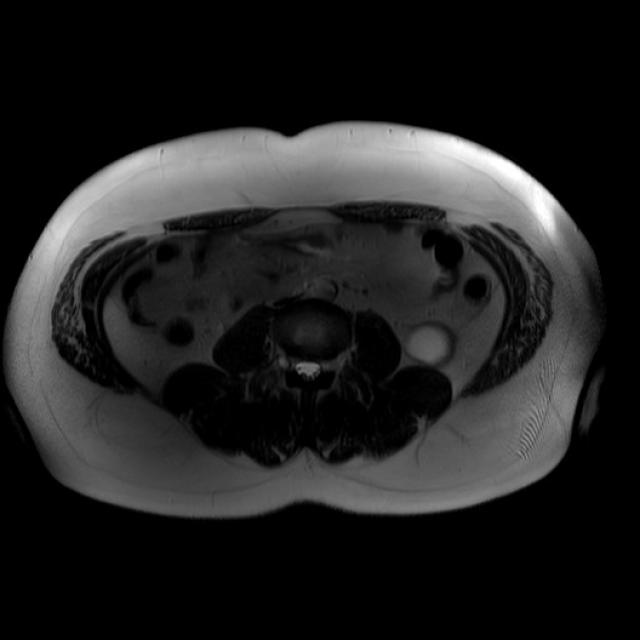sol: (408, 321, 454, 363)
